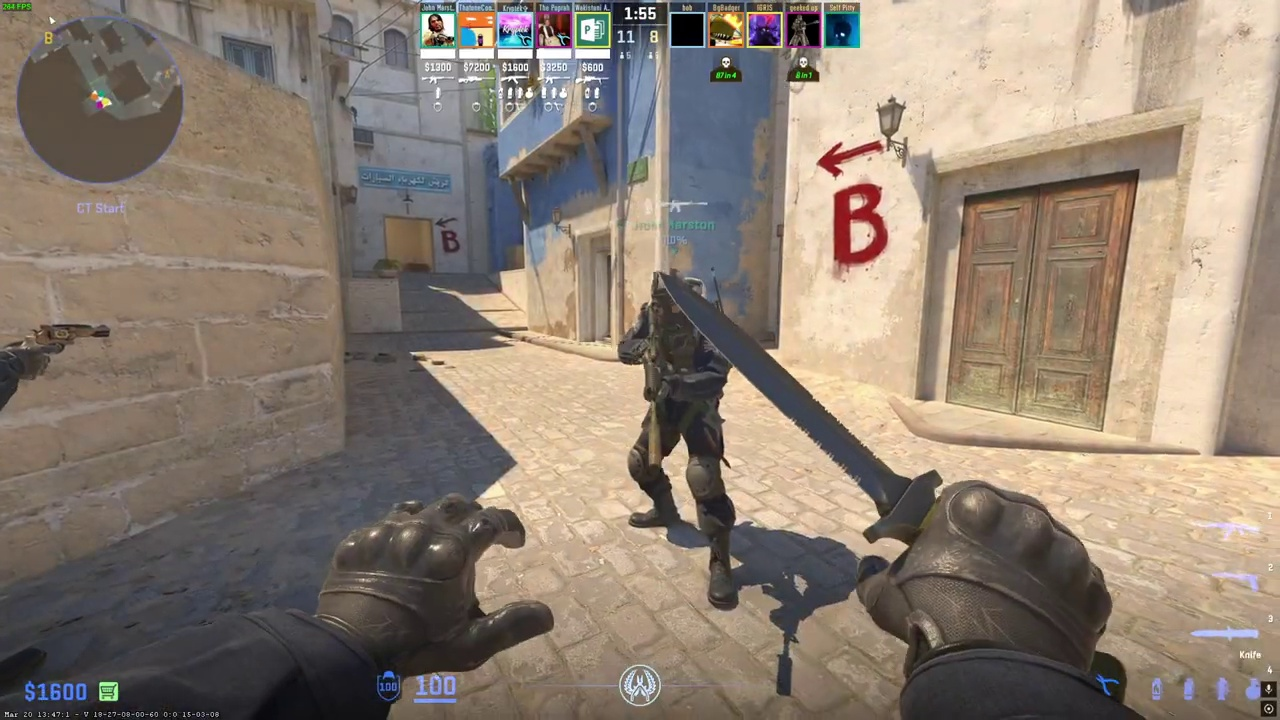CT: (618, 267, 753, 600)
